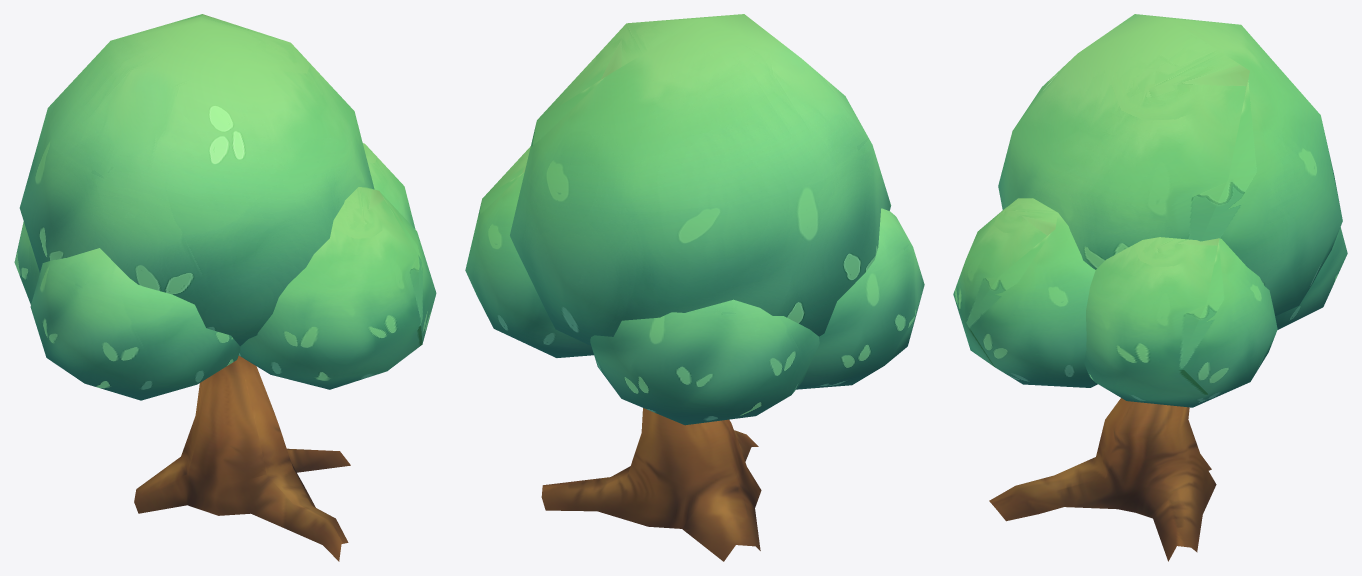
Rendered from tree_2.gltf.
3 renders of one model, left to right at view 1: azimuth 30°, elevation 25°; view 2: azimuth 150°, elevation 25°; view 3: azimuth 270°, elevation 25°, orthographic. The views are drawn at different scales.
Visible parts, largest first — view 1: Tree2Mesh; view 2: Tree2Mesh; view 3: Tree2Mesh.
Boxes of the visible parts, x1,y1,x2,y2 form: Tree2Mesh: (14, 14, 436, 561); Tree2Mesh: (465, 14, 924, 561); Tree2Mesh: (953, 14, 1347, 561).
Size of what is drawn, in the model's own units: 3.57 by 4.3 by 3.27.
2 materials, 2 textured.
